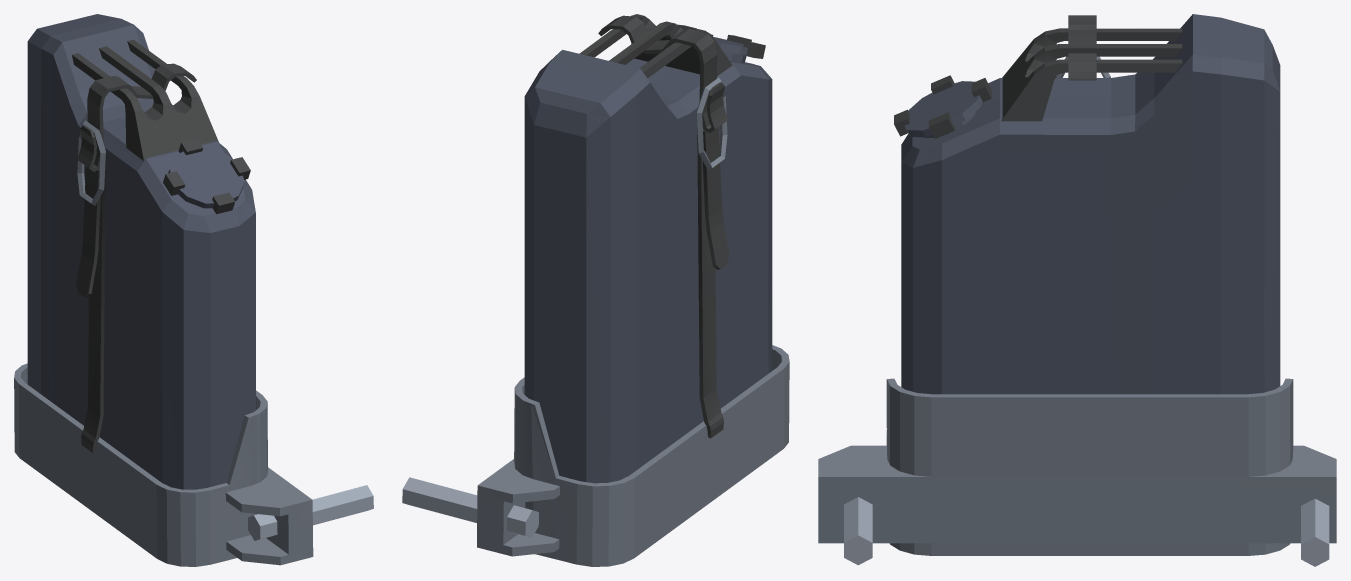
Rendered from other_type87-arv.fbx.
The picture shows the model from 3 angles, left to right: view 1: azimuth 30°, elevation 25°; view 2: azimuth 150°, elevation 25°; view 3: azimuth 270°, elevation 25°; orthographic projection. The views are drawn at different scales.
Parts seen in each view (by area): view 1: other.type87-arv; view 2: other.type87-arv; view 3: other.type87-arv.
Boxes of the visible parts, left/top/right/bottom form: other.type87-arv: left=14, top=14, right=373, bottom=566; other.type87-arv: left=402, top=14, right=789, bottom=566; other.type87-arv: left=818, top=14, right=1336, bottom=566.
Bounding box in the file's own units: 0.4185 × 0.9066 × 0.8627.
